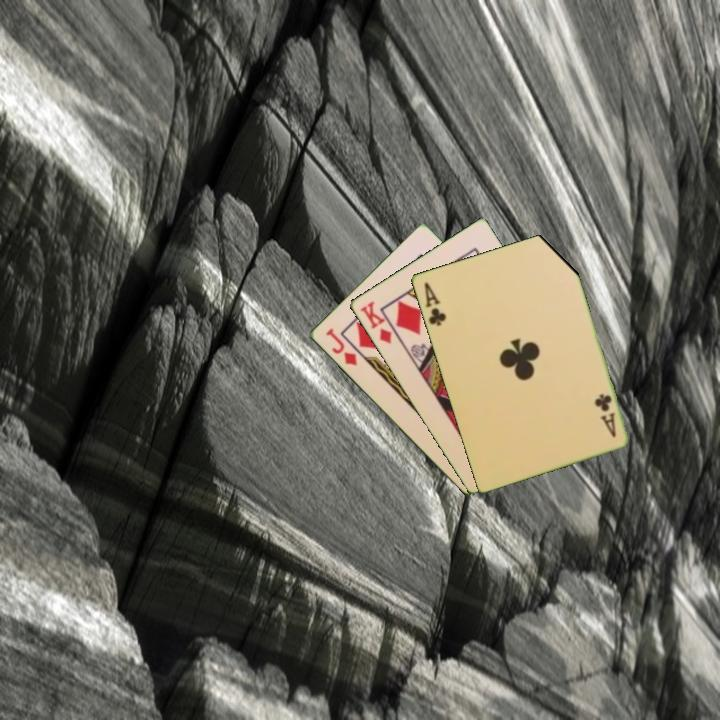Ac: (420, 278, 449, 329), (591, 390, 619, 440)
Jd: (322, 325, 360, 369)
Kd: (356, 297, 394, 347)
